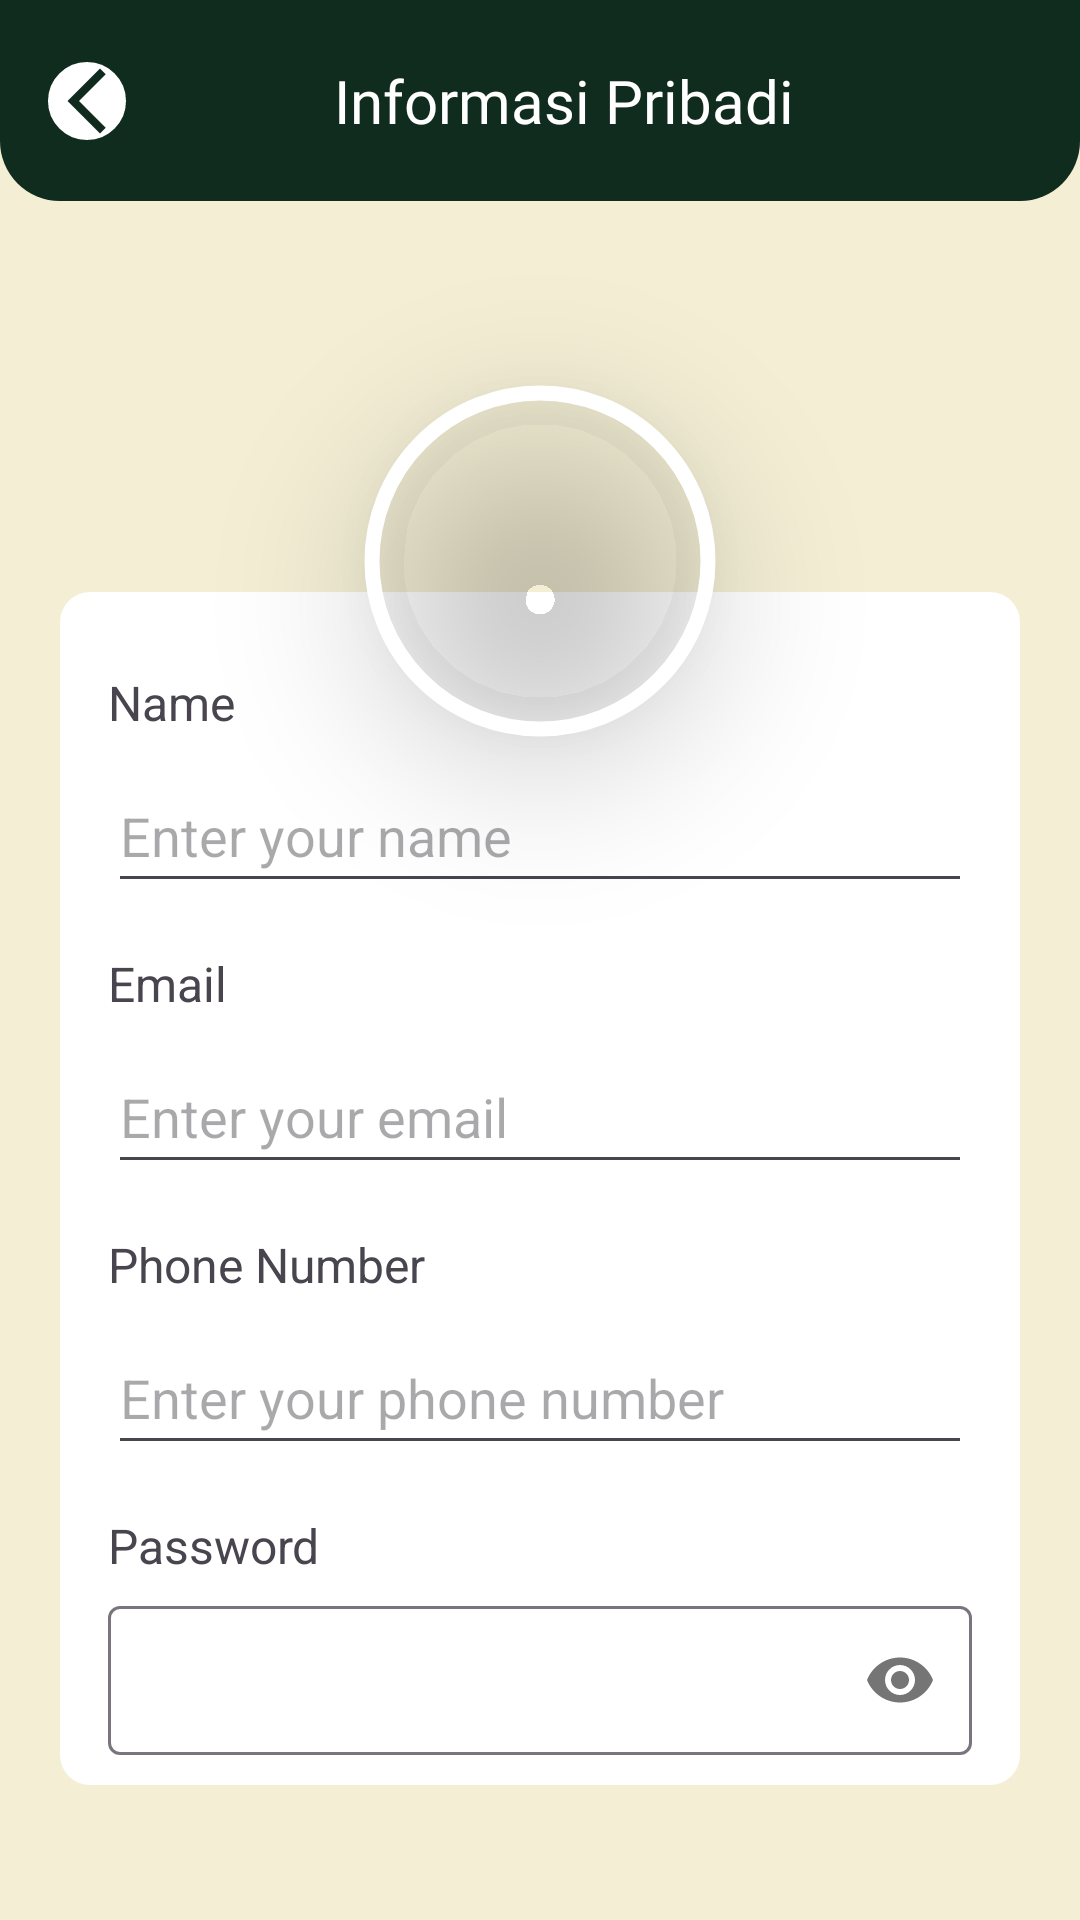

Where icons sit on this 1080 × 1920 app screen, as detection(x1, y1, x2, y2):
Back button: detection(48, 62, 126, 140)
